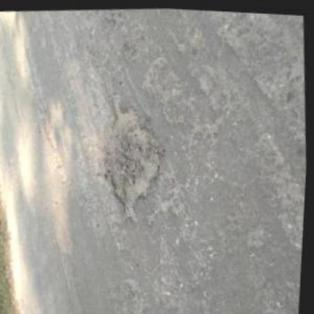Hueco: (96, 87, 172, 226)
